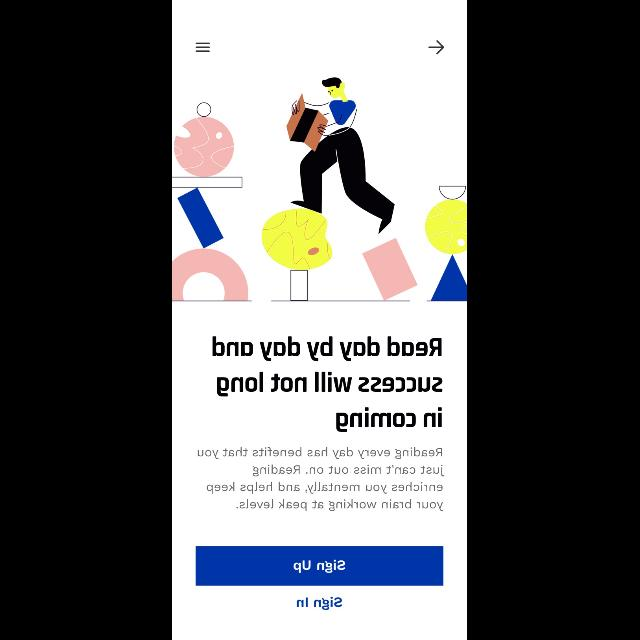icon: (429, 41, 445, 55), (196, 43, 210, 53)
image: (172, 77, 468, 301)
text: (213, 336, 443, 432), (198, 446, 446, 512), (297, 598, 343, 610)
textbutton: (196, 546, 444, 586)
